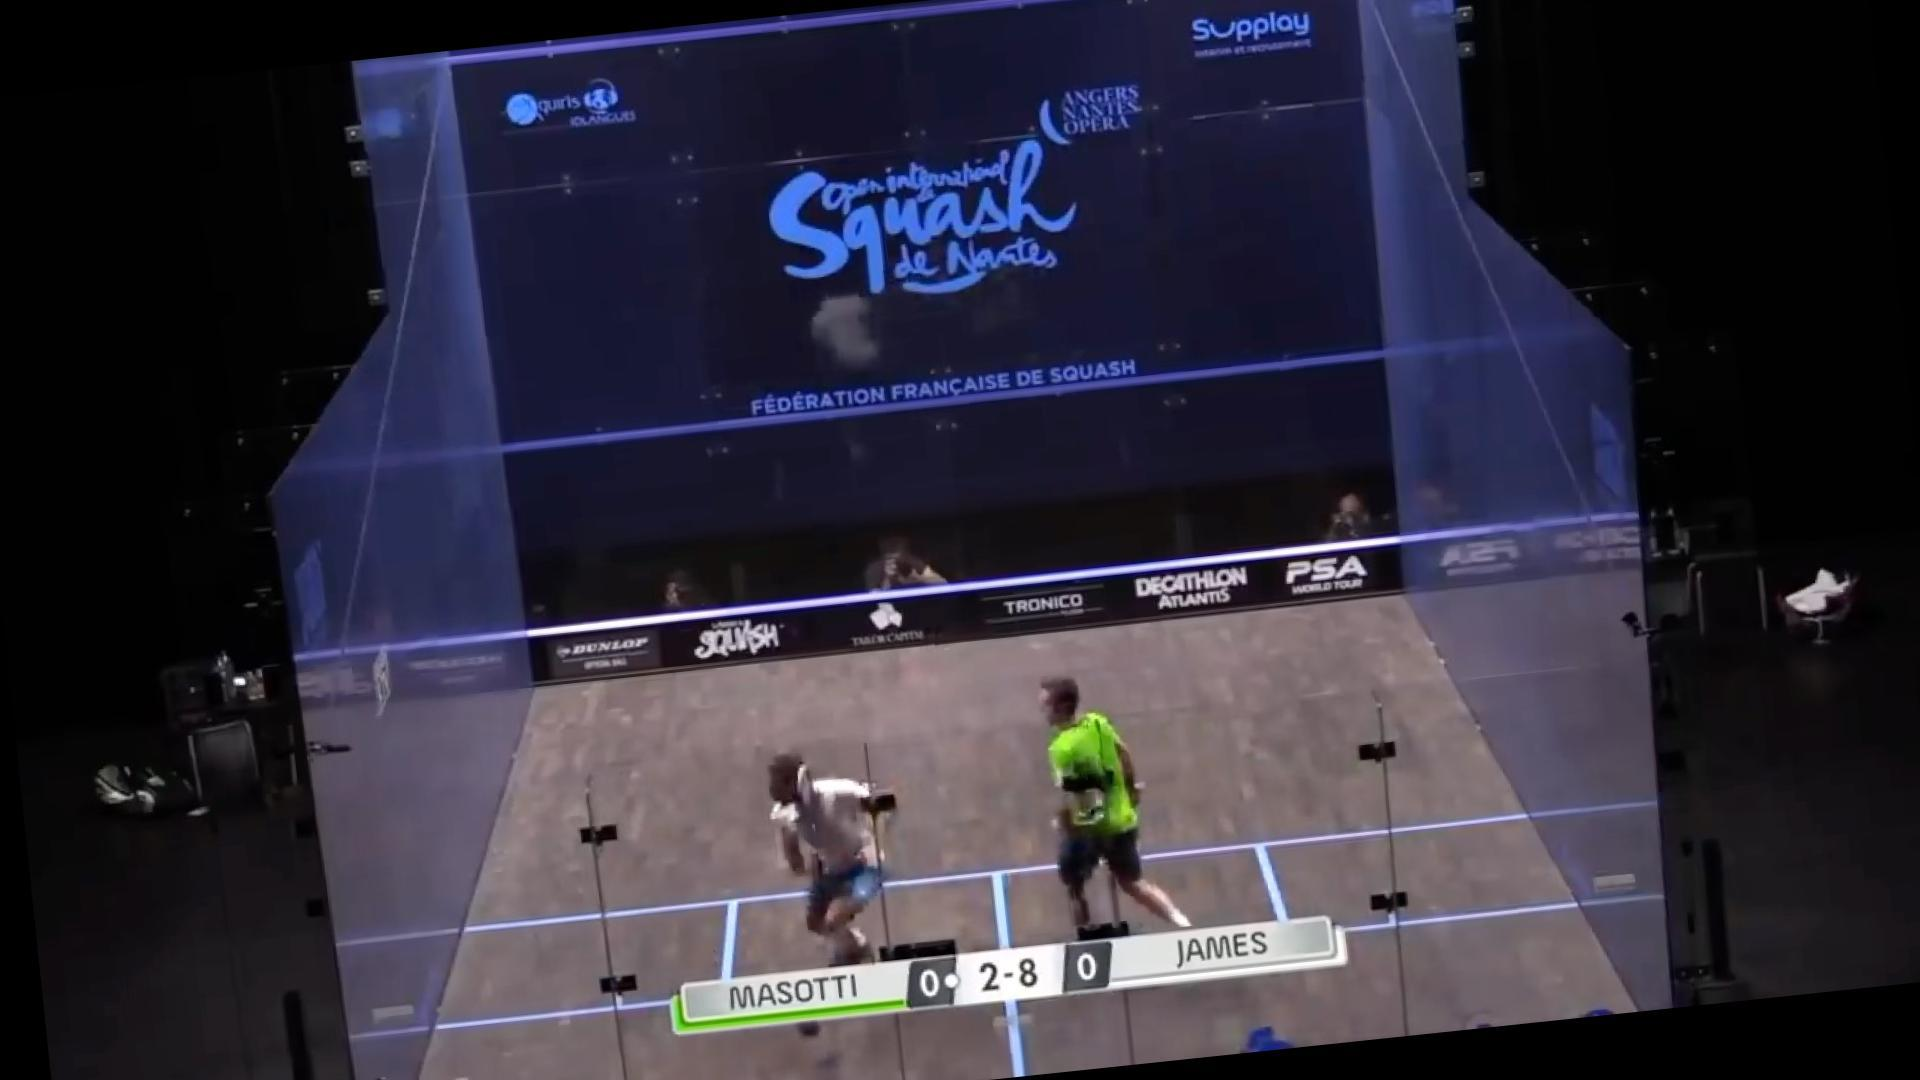Squash-Ball: (442, 1062, 495, 1080)
